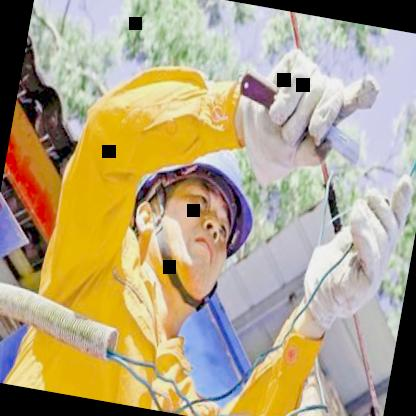helmet: (99, 108, 275, 332)
